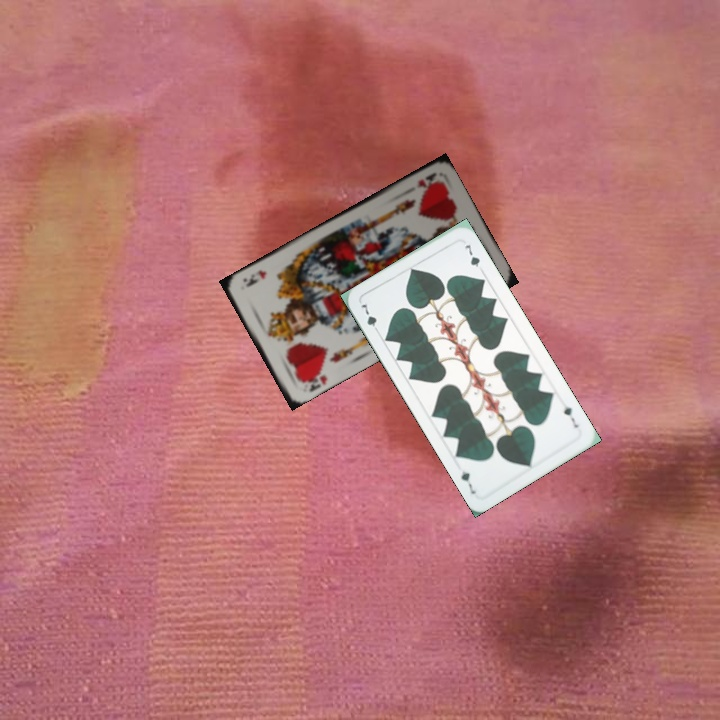G7: (357, 300, 382, 336), (559, 398, 581, 431)
HK: (297, 365, 330, 395), (413, 169, 442, 191)
